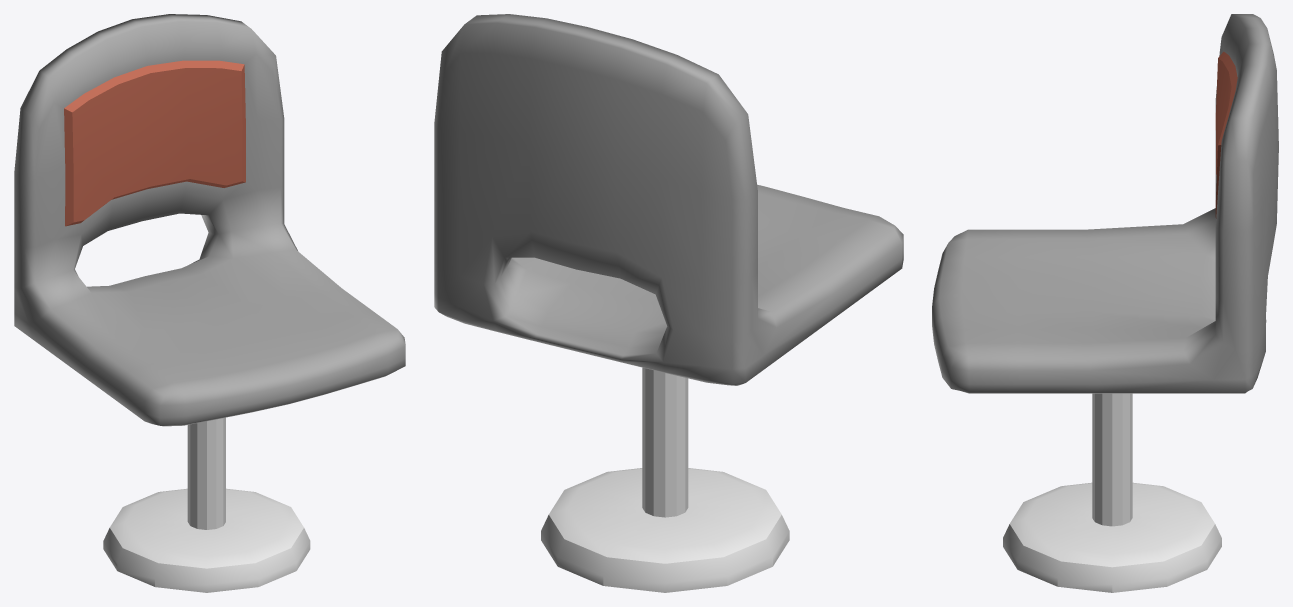
Rendered from BowlingSeat.fbx.
The picture shows the model from 3 angles, left to right: view 1: azimuth 30°, elevation 25°; view 2: azimuth 150°, elevation 25°; view 3: azimuth 270°, elevation 25°; orthographic projection. The views are drawn at different scales.
Visible parts, largest first — view 1: BowlingSeat; view 2: BowlingSeat; view 3: BowlingSeat.
Boxes of the visible parts, left/top/right/bottom form: BowlingSeat: left=14, top=14, right=405, bottom=592; BowlingSeat: left=434, top=14, right=903, bottom=592; BowlingSeat: left=932, top=14, right=1278, bottom=592.
Size of the model in its own units: 4.81 by 8.41 by 5.26.
